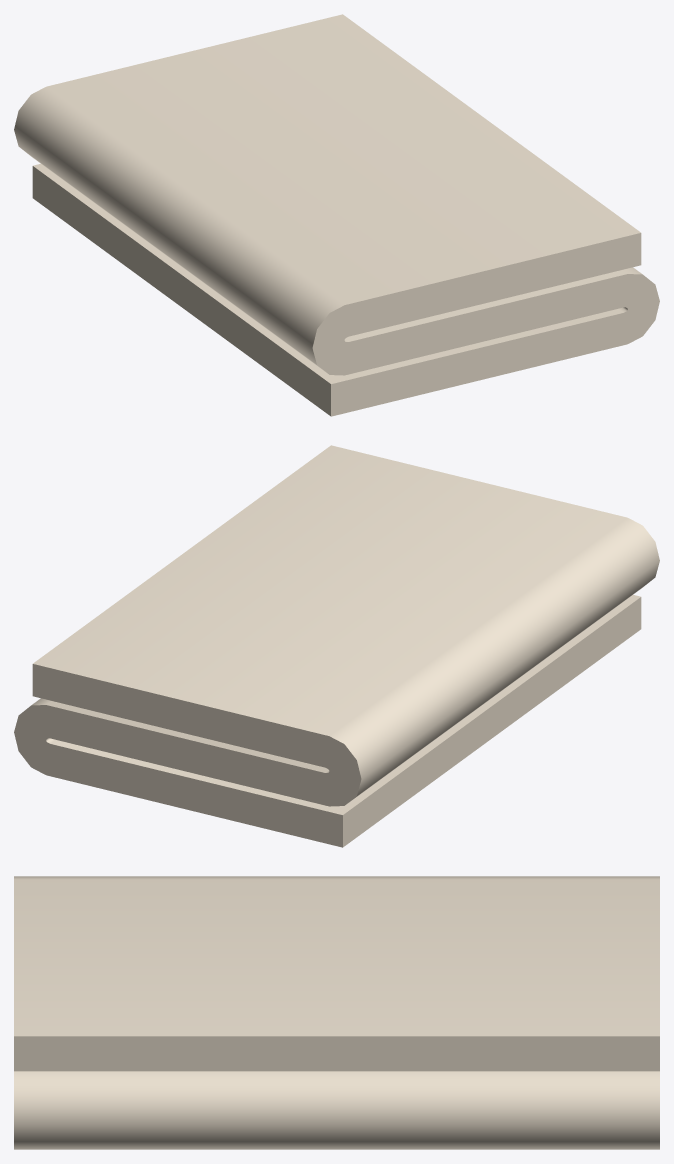
The model's file is JAC_20_Toalha_Dobrada.glb.
3 views of the same model, one above another, from view 1: azimuth 30°, elevation 25°; view 2: azimuth 150°, elevation 25°; view 3: azimuth 270°, elevation 25° (orthographic). The views are drawn at different scales.
Parts seen in each view (by area): view 1: JAC_20_Toalha_Dobrada; view 2: JAC_20_Toalha_Dobrada; view 3: JAC_20_Toalha_Dobrada.
Boxes of the visible parts, x1,y1,x2,y2 form: JAC_20_Toalha_Dobrada: (14, 14, 659, 416); JAC_20_Toalha_Dobrada: (14, 445, 659, 847); JAC_20_Toalha_Dobrada: (14, 876, 659, 1149).
Bounding box in the file's own units: 0.3361 × 0.1 × 0.5.
